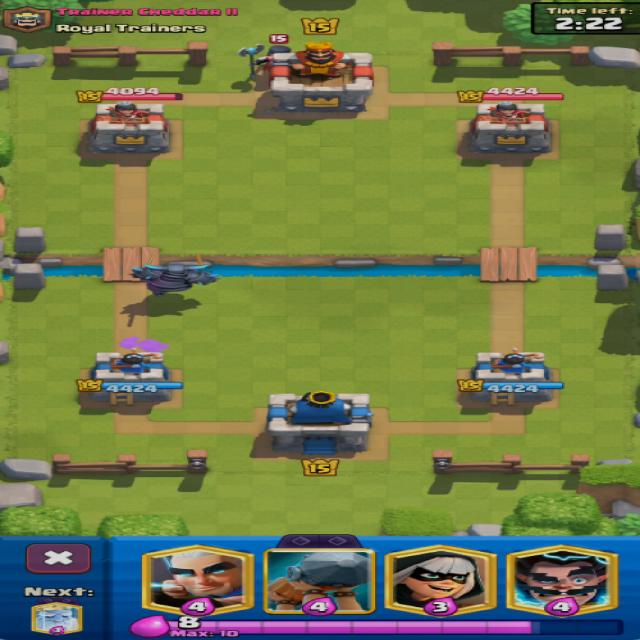Enemy-KingTower: (264, 42, 372, 113)
Enemy-NightWitch: (237, 44, 292, 78)
Enemy-PrincessTower: (88, 101, 169, 153), (470, 101, 549, 154)
